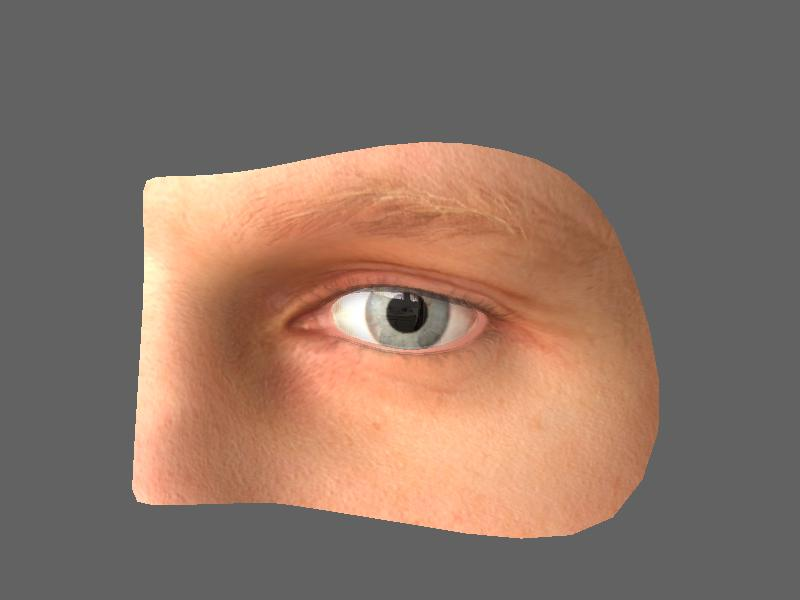iris: (363, 284, 453, 345)
